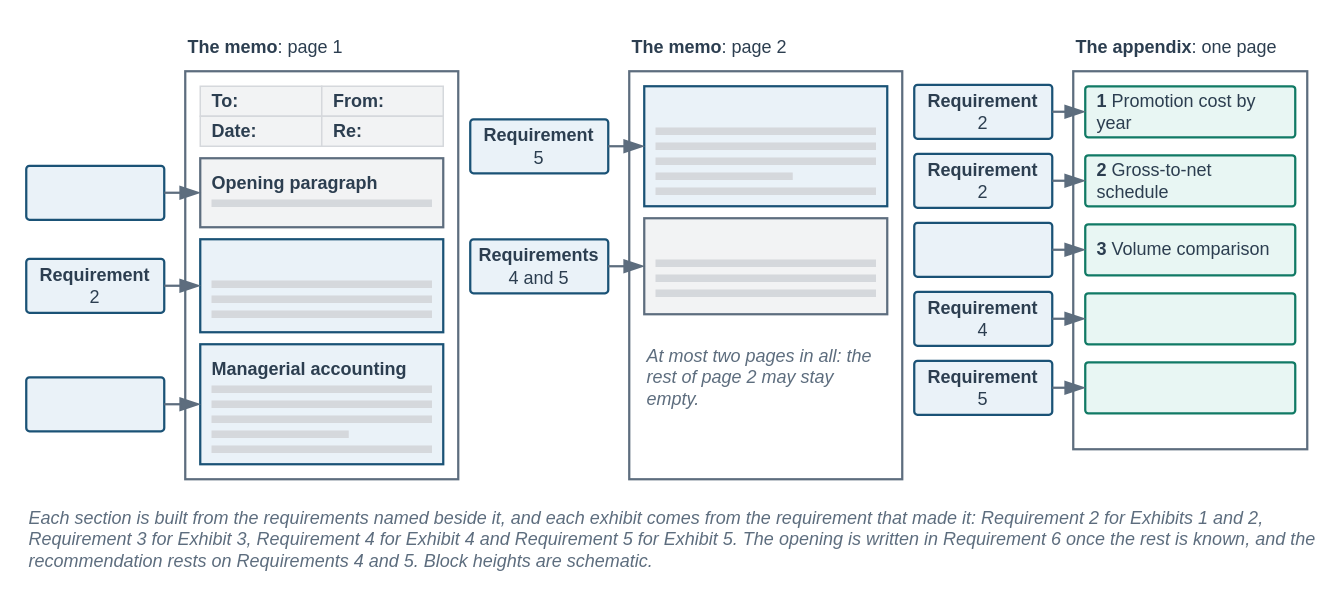
Some shapes in this 1343 by 605 pixel diagram are drawn without their labels. Here are the shapes that lost their labels. From the top down, the centre of each, then its label:
At pixel 765 145: "Auditing".
At pixel 94 192: "Requirement 6".
At pixel 765 265: "Recommendation".
At pixel 982 249: "Requirement 3".
At pixel 321 285: "Financial reporting".
At pixel 1189 318: "4 Break-even results".
At pixel 94 403: "Requirements 3 and 4".
At pixel 1189 387: "5 Summary of exceptions".
